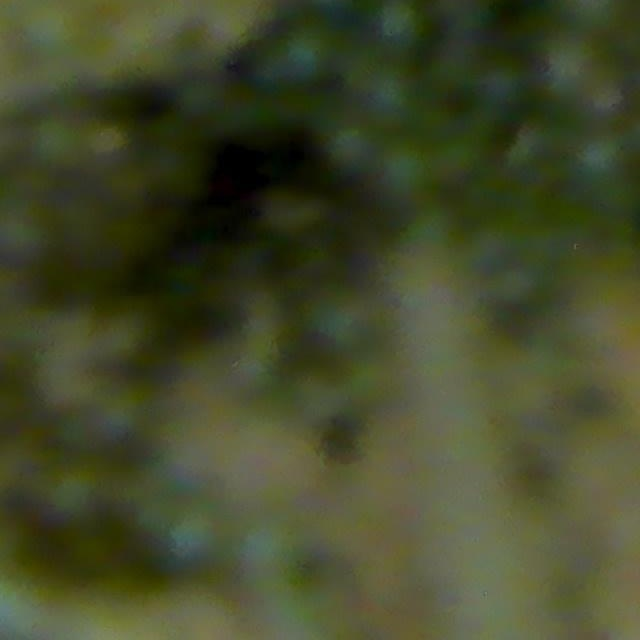SeaGrape: (540, 32, 602, 102), (166, 498, 225, 563), (570, 128, 631, 190), (362, 64, 417, 125), (378, 139, 433, 198), (279, 25, 335, 82), (326, 121, 380, 175), (374, 0, 424, 49)
